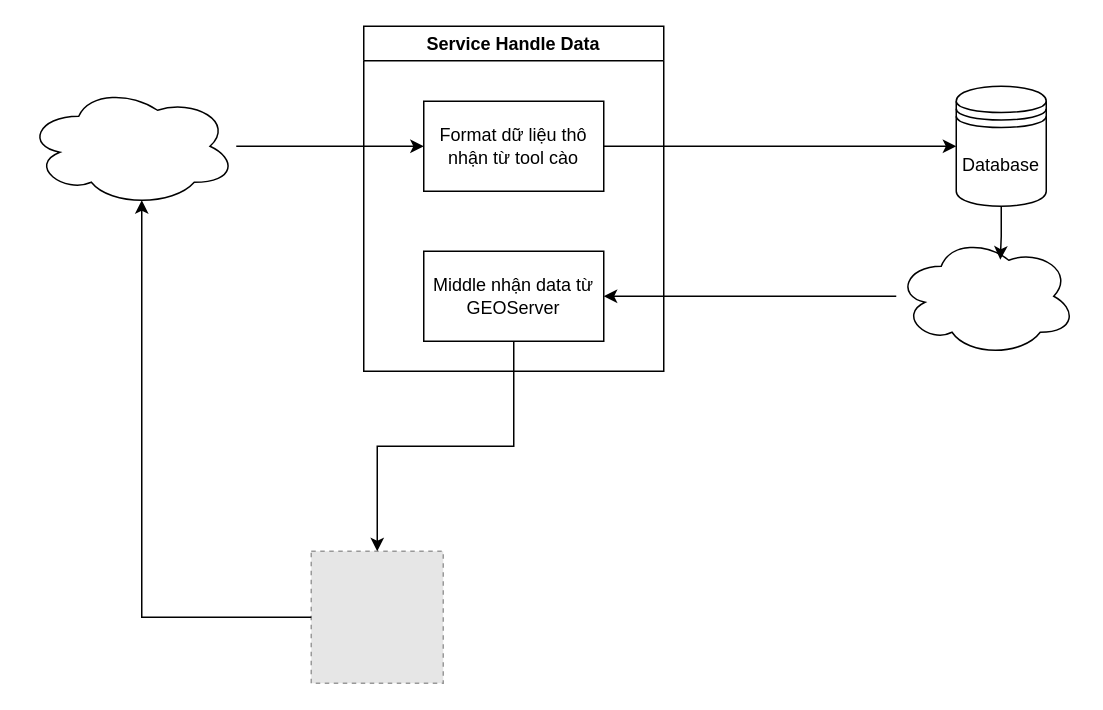
Some shapes in this 1103 by 710 pixel diagram are drawn without their labels. Grey dashed boxes stand in for pictures. Here are the shapes that lost their labels. From the top down, the centre of each, then its label:
At [130,145]: "Tool Crawl Data".
At [985,295]: "[GEOServer]".
